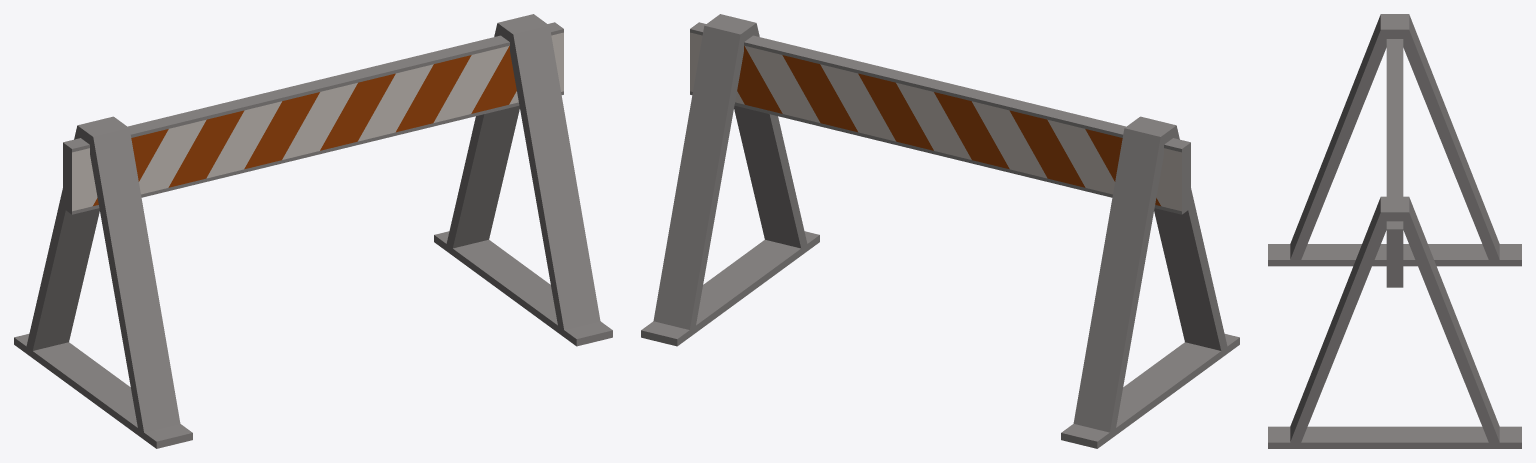
The model's file is Quaternius_TrafficBarrier.obj.
3 views of the same model, side by side, from view 1: azimuth 30°, elevation 25°; view 2: azimuth 150°, elevation 25°; view 3: azimuth 270°, elevation 25° (orthographic). The views are drawn at different scales.
Visible parts, largest first — view 1: part0; view 2: part0; view 3: part0.
Boxes of the visible parts, x1,y1,x2,y2 form: part0: [14, 14, 612, 448]; part0: [641, 14, 1239, 448]; part0: [1268, 14, 1521, 448].
Bounding box in the file's own units: 1.56 × 0.8023 × 0.7801.
Materials: 1 (1 with a texture image).
